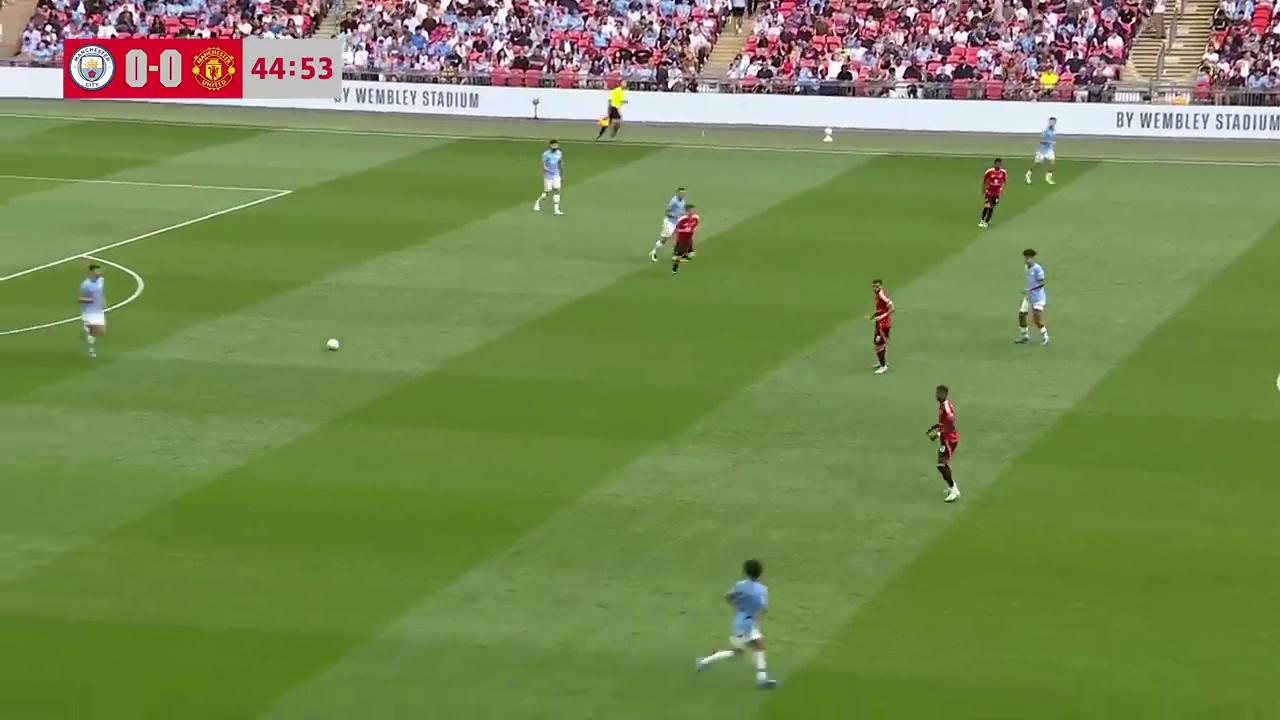ball: (324, 334, 341, 351)
player: (711, 558, 779, 689), (925, 386, 960, 502), (1015, 249, 1049, 346), (655, 187, 695, 261), (78, 264, 107, 358), (866, 279, 894, 374), (533, 139, 564, 215), (670, 204, 700, 271), (979, 158, 1008, 227), (1032, 118, 1058, 185)
referee: (596, 89, 624, 142)
